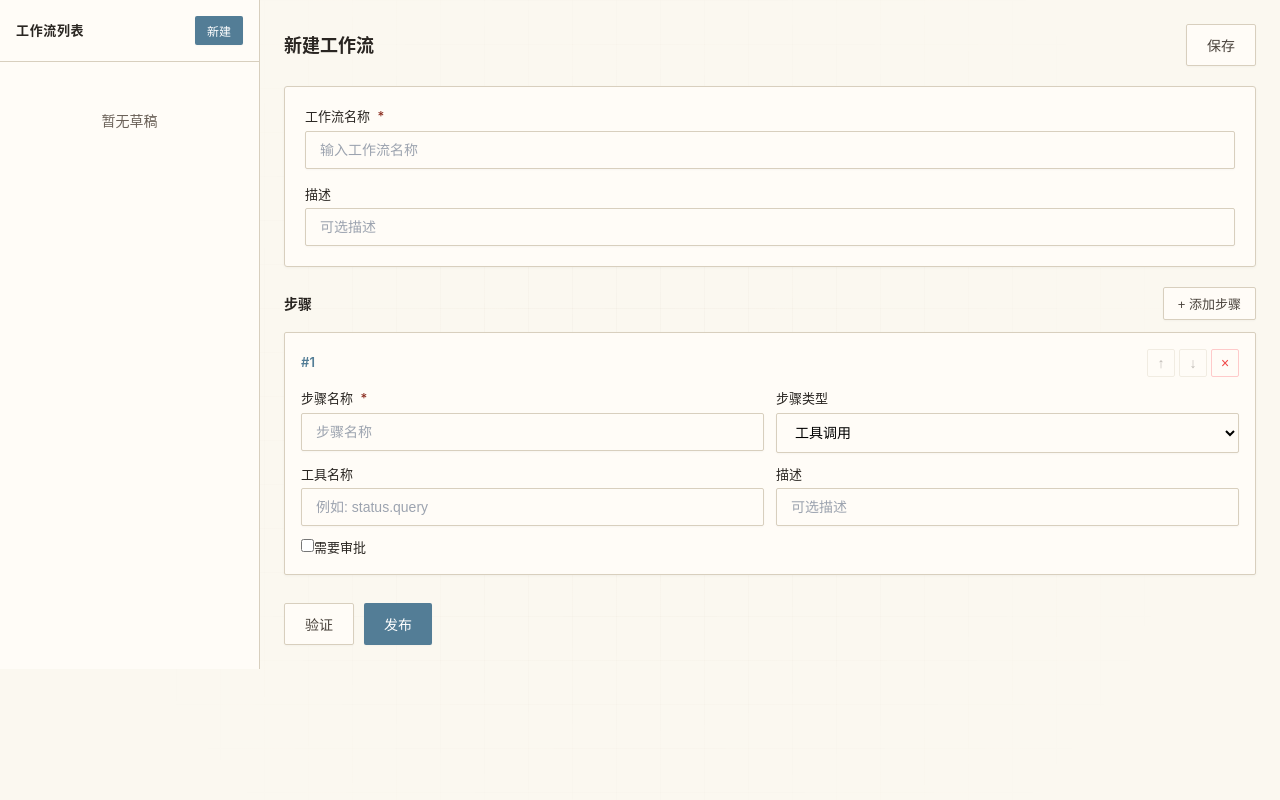
Scenario: WorkflowsTab › validates missing tool name for tool_call step
Type "Test Workflow" into the field with test id "workflow-name-input".
click(770, 150); type("Test Workflow")  # box [305,130,1235,168]
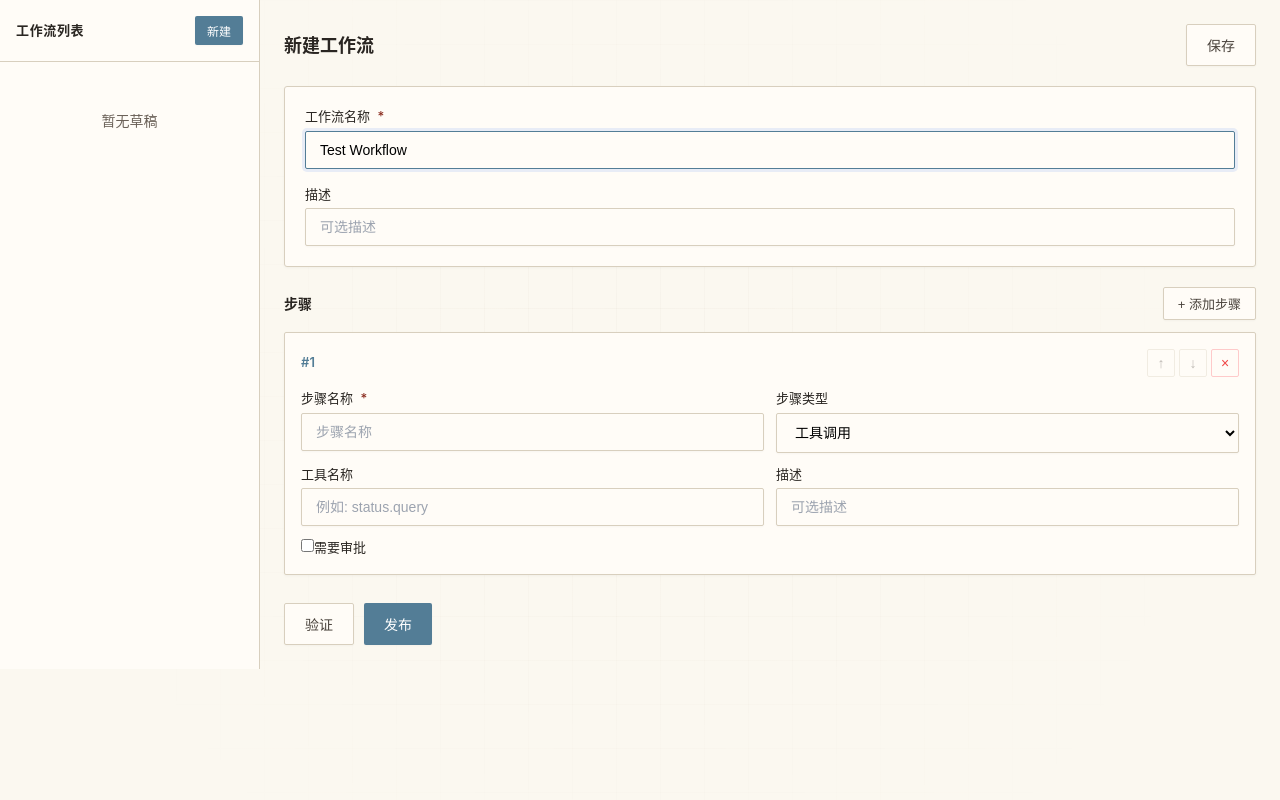
Type "My Step" into the field with test id "workflow-step-title-0".
click(532, 432); type("My Step")  # box [301,412,764,450]
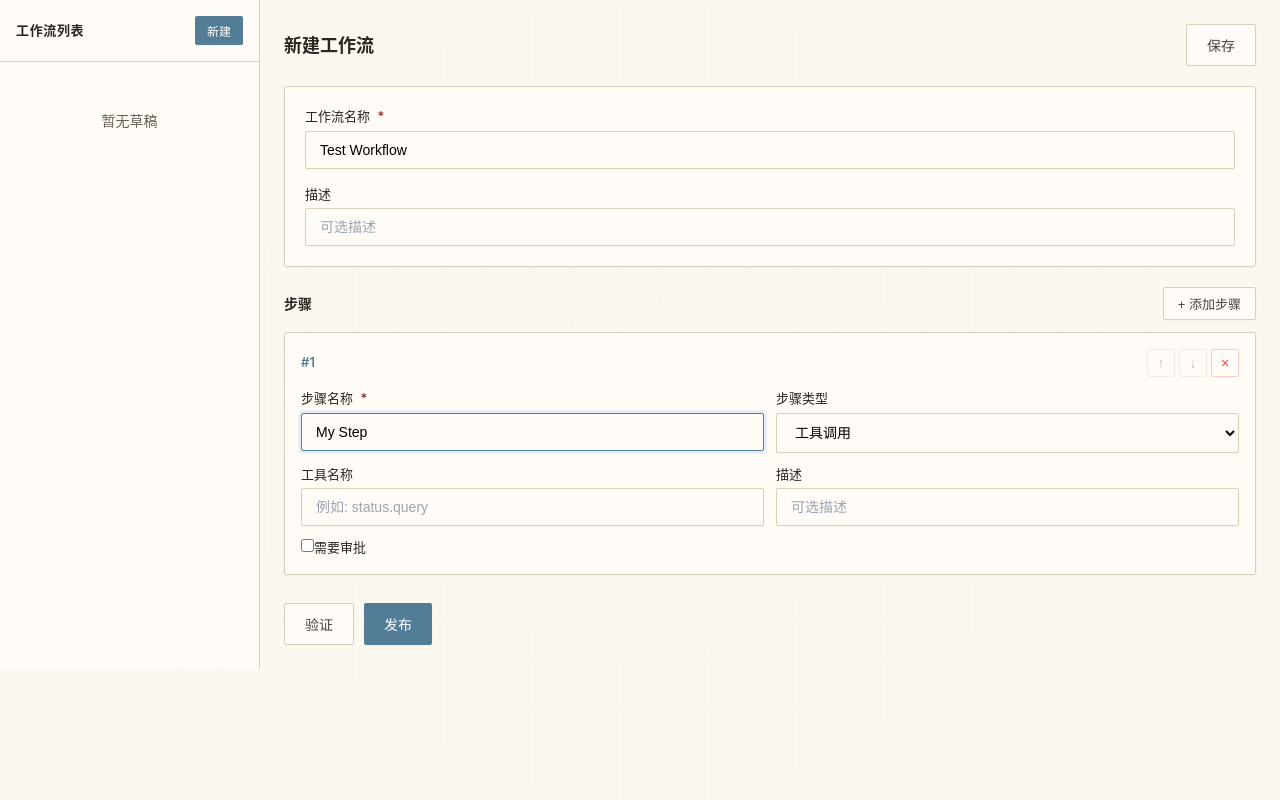
Click the button with test id "workflow-validate".
click(319, 624)  # box [284,602,354,644]
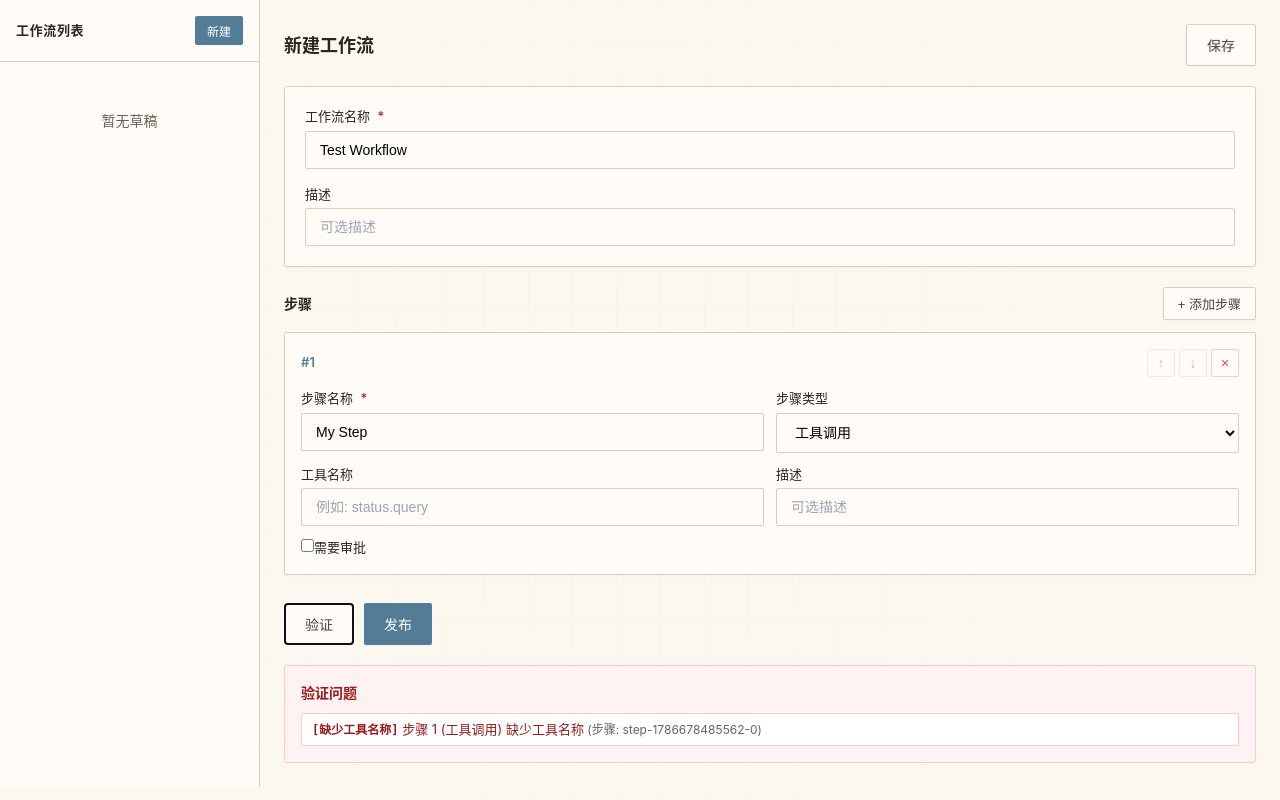
Now the element with test id "workflow-validation-errors" is shown, box [284,664,1256,763]
Now the list item "[缺少工具名称] 步骤 1 (工具调用) 缺少工具名称 (步骤: step-1786678485562-0)" is shown, box [301,712,1239,746]
